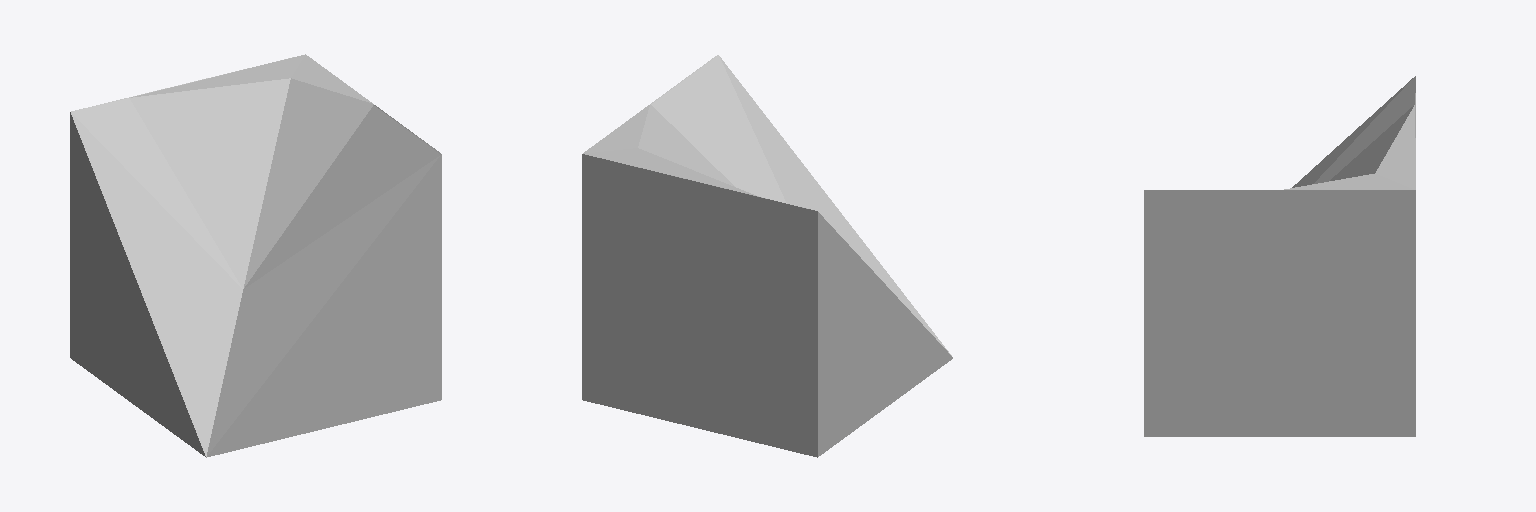
File: CornerCube.obj
3 renders of one model, left to right at view 1: azimuth 30°, elevation 25°; view 2: azimuth 150°, elevation 25°; view 3: azimuth 270°, elevation 25°, orthographic.
Parts seen in each view (by area): view 1: Cube; view 2: Cube; view 3: Cube.
Boxes of the visible parts, x1,y1,x2,y2 form: Cube: [70, 54, 441, 457]; Cube: [582, 55, 952, 457]; Cube: [1144, 76, 1415, 436].
Bounding box in the file's own units: 2 × 2 × 2.